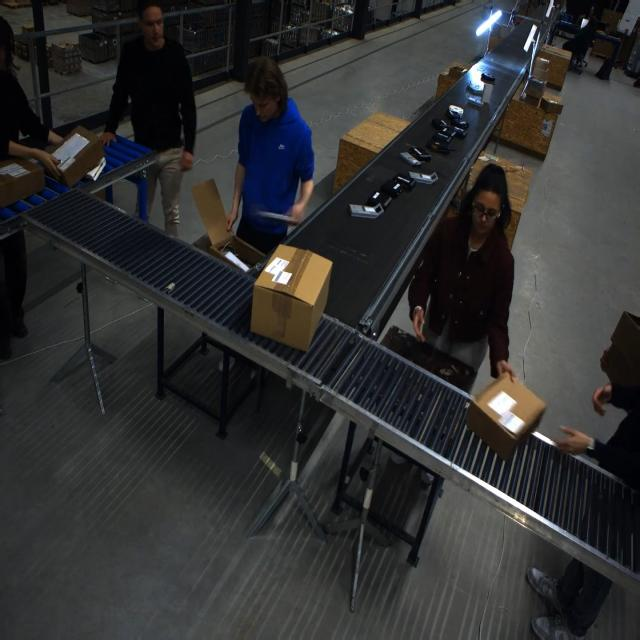box: (251, 245, 329, 349), (466, 369, 546, 460), (41, 124, 105, 189), (601, 312, 639, 387), (0, 155, 45, 209), (523, 76, 546, 100), (539, 93, 563, 115), (447, 64, 468, 78)
product: (364, 174, 414, 214), (365, 188, 391, 209), (348, 203, 381, 219), (391, 173, 414, 193), (408, 171, 437, 184), (399, 151, 422, 166), (410, 146, 432, 161), (466, 77, 485, 94), (448, 115, 468, 130), (431, 119, 453, 132), (436, 127, 455, 142), (428, 142, 451, 154), (451, 125, 468, 138), (466, 94, 483, 106), (448, 104, 463, 117), (480, 72, 495, 83)
